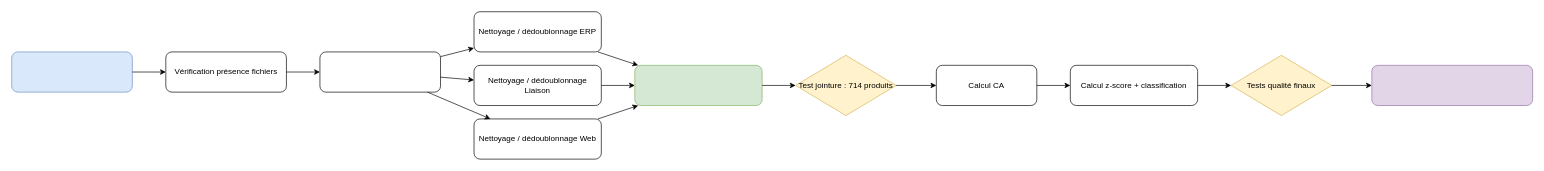
Some shapes in this 1544 by 171 pixel diagram are drawn without their labels. The shapes that lost their labels are listed below. From the top down, each one's centre as x and y in pixels, then its label:
point 71,71: Fichiers sources ERP / Liaison / Web
point 380,71: Ingestion + normalisation
point 698,85: Fusion sur tables nettoyées
point 1452,85: Exports : rapport_ca.xlsx, vins_premium.csv, vins_ordinaires.csv
